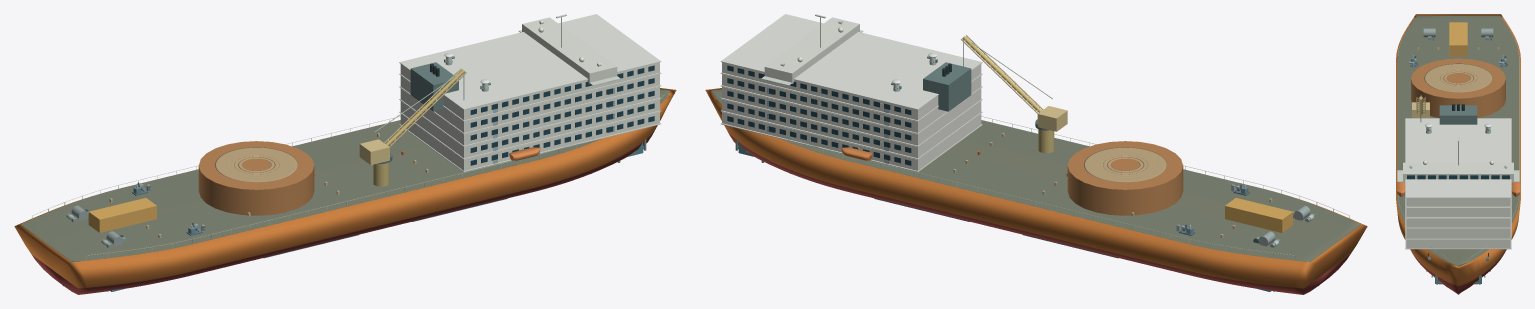
File: nexans-aurora.lod1.glb
3 renders of one model, left to right at view 1: azimuth 30°, elevation 25°; view 2: azimuth 150°, elevation 25°; view 3: azimuth 270°, elevation 25°, orthographic. The views are drawn at different scales.
Parts seen in each view (by area): view 1: nexans-aurora.structure.decks.main-strength-deck.1, nexans-aurora.structure.hull.outer-hull-shell.1, nexans-aurora.accommodation.superstructure.superstructure-we, nexans-aurora.cargo.cable-storage.cable-carousel.1, nexans-aurora.structure.hull.antifouling-underwater-shell.1, nexans-aurora.accommodation.superstructure.deck-3-enclosure., nexans-aurora.accommodation.superstructure.deck-2-enclosure., nexans-aurora.navigation.bridge.wheelhouse.1, nexans-aurora.accommodation.superstructure.deck-1-enclosure., nexans-aurora.accommodation.superstructure.deck-4-enclosure., nexans-aurora.accommodation.superstructure.deck-5-enclosure., nexans-aurora.cargo.lay-line.cable-tensioner.1 (+9 smaller); view 2: nexans-aurora.structure.decks.main-strength-deck.1, nexans-aurora.structure.hull.outer-hull-shell.1, nexans-aurora.accommodation.superstructure.superstructure-we, nexans-aurora.cargo.cable-storage.cable-carousel.1, nexans-aurora.structure.hull.antifouling-underwater-shell.1, nexans-aurora.accommodation.superstructure.deck-2-enclosure., nexans-aurora.accommodation.superstructure.deck-3-enclosure., nexans-aurora.navigation.bridge.wheelhouse.1, nexans-aurora.accommodation.superstructure.deck-1-enclosure., nexans-aurora.accommodation.superstructure.deck-4-enclosure., nexans-aurora.accommodation.superstructure.deck-5-enclosure., nexans-aurora.propulsion.exhaust.exhaust-casing.1 (+9 smaller); view 3: nexans-aurora.structure.decks.main-strength-deck.1, nexans-aurora.accommodation.superstructure.superstructure-we, nexans-aurora.cargo.cable-storage.cable-carousel.1, nexans-aurora.structure.hull.outer-hull-shell.1, nexans-aurora.navigation.bridge.wheelhouse.1, nexans-aurora.accommodation.superstructure.deck-2-enclosure., nexans-aurora.accommodation.superstructure.deck-3-enclosure., nexans-aurora.accommodation.superstructure.deck-4-enclosure., nexans-aurora.accommodation.superstructure.deck-1-enclosure., nexans-aurora.accommodation.superstructure.deck-5-enclosure., nexans-aurora.propulsion.exhaust.exhaust-casing.1, nexans-aurora.cargo.lay-line.cable-tensioner.1 (+17 smaller).
Part boxes in pixels (x1,y1,x2,y2): nexans-aurora.structure.decks.main-strength-deck.1: (21, 89, 670, 261); nexans-aurora.structure.hull.outer-hull-shell.1: (14, 88, 676, 288); nexans-aurora.accommodation.superstructure.superstructure-we: (399, 14, 661, 109); nexans-aurora.cargo.cable-storage.cable-carousel.1: (198, 141, 314, 215); nexans-aurora.structure.hull.antifouling-underwater-shell.1: (32, 131, 654, 294); nexans-aurora.accommodation.superstructure.deck-3-enclosure.: (400, 86, 659, 145); nexans-aurora.accommodation.superstructure.deck-2-enclosure.: (400, 99, 659, 158); nexans-aurora.navigation.bridge.wheelhouse.1: (522, 17, 617, 83); nexans-aurora.accommodation.superstructure.deck-1-enclosure.: (400, 112, 659, 170); nexans-aurora.accommodation.superstructure.deck-4-enclosure.: (400, 74, 659, 132); nexans-aurora.accommodation.superstructure.deck-5-enclosure.: (400, 62, 659, 120); nexans-aurora.cargo.lay-line.cable-tensioner.1: (88, 198, 156, 232); nexans-aurora.structure.decks.main-strength-deck.1: (711, 89, 1360, 261); nexans-aurora.structure.hull.outer-hull-shell.1: (705, 88, 1367, 288); nexans-aurora.accommodation.superstructure.superstructure-we: (720, 14, 982, 109); nexans-aurora.cargo.cable-storage.cable-carousel.1: (1067, 141, 1183, 215); nexans-aurora.structure.hull.antifouling-underwater-shell.1: (727, 131, 1349, 294); nexans-aurora.accommodation.superstructure.deck-2-enclosure.: (722, 99, 981, 158); nexans-aurora.accommodation.superstructure.deck-3-enclosure.: (722, 86, 981, 145); nexans-aurora.navigation.bridge.wheelhouse.1: (764, 17, 859, 83); nexans-aurora.accommodation.superstructure.deck-1-enclosure.: (722, 112, 981, 170); nexans-aurora.accommodation.superstructure.deck-4-enclosure.: (722, 74, 981, 132); nexans-aurora.accommodation.superstructure.deck-5-enclosure.: (722, 62, 981, 120); nexans-aurora.propulsion.exhaust.exhaust-casing.1: (923, 62, 971, 111); nexans-aurora.structure.decks.main-strength-deck.1: (1397, 15, 1519, 266); nexans-aurora.accommodation.superstructure.superstructure-we: (1405, 118, 1511, 197); nexans-aurora.cargo.cable-storage.cable-carousel.1: (1411, 58, 1505, 117); nexans-aurora.structure.hull.outer-hull-shell.1: (1396, 14, 1520, 285); nexans-aurora.navigation.bridge.wheelhouse.1: (1403, 162, 1513, 182); nexans-aurora.accommodation.superstructure.deck-2-enclosure.: (1406, 228, 1510, 237); nexans-aurora.accommodation.superstructure.deck-3-enclosure.: (1406, 218, 1510, 227); nexans-aurora.accommodation.superstructure.deck-4-enclosure.: (1406, 207, 1510, 216); nexans-aurora.accommodation.superstructure.deck-1-enclosure.: (1406, 239, 1510, 248); nexans-aurora.accommodation.superstructure.deck-5-enclosure.: (1406, 198, 1510, 206); nexans-aurora.propulsion.exhaust.exhaust-casing.1: (1439, 105, 1477, 124); nexans-aurora.cargo.lay-line.cable-tensioner.1: (1449, 22, 1467, 56).
Size of the model in its own units: 150 by 34.38 by 31.
